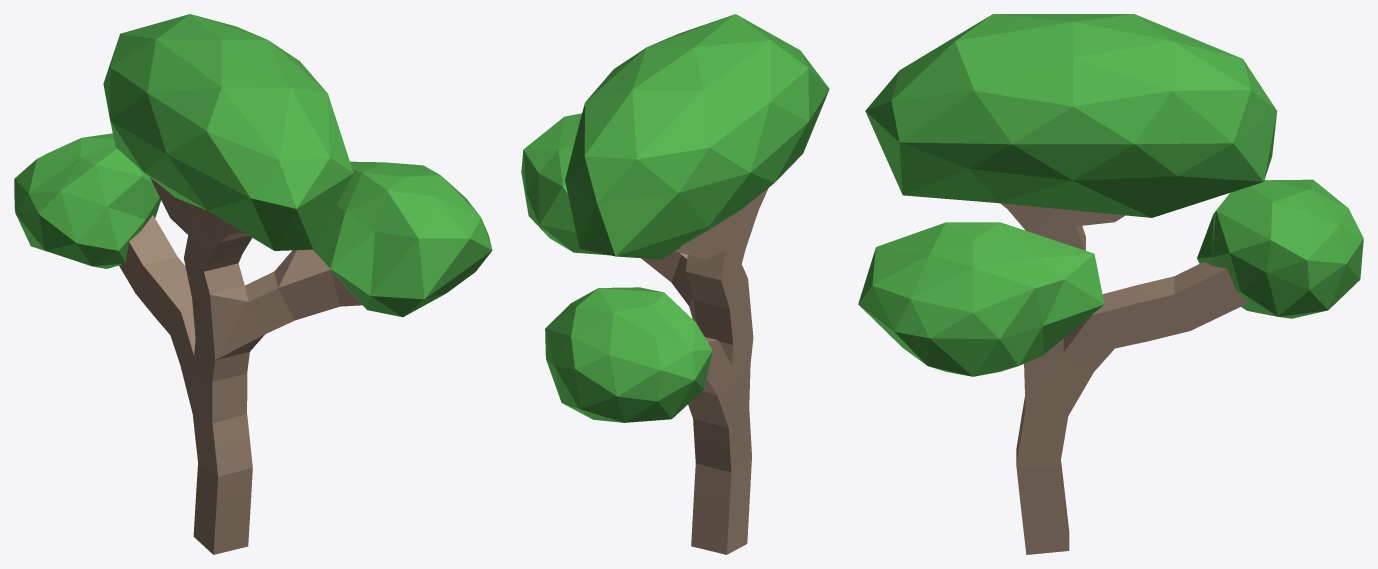
File: Tree2.fbx
The picture shows the model from 3 angles, left to right: view 1: azimuth 30°, elevation 25°; view 2: azimuth 150°, elevation 25°; view 3: azimuth 270°, elevation 25°; orthographic projection. The views are drawn at different scales.
Parts seen in each view (by area): view 1: Vert; view 2: Vert; view 3: Vert.
Boxes of the visible parts, left/top/right/bottom form: Vert: left=14, top=14, right=492, bottom=554; Vert: left=521, top=14, right=829, bottom=554; Vert: left=858, top=14, right=1363, bottom=554.
Bounding box in the file's own units: 440 × 676 × 584.
